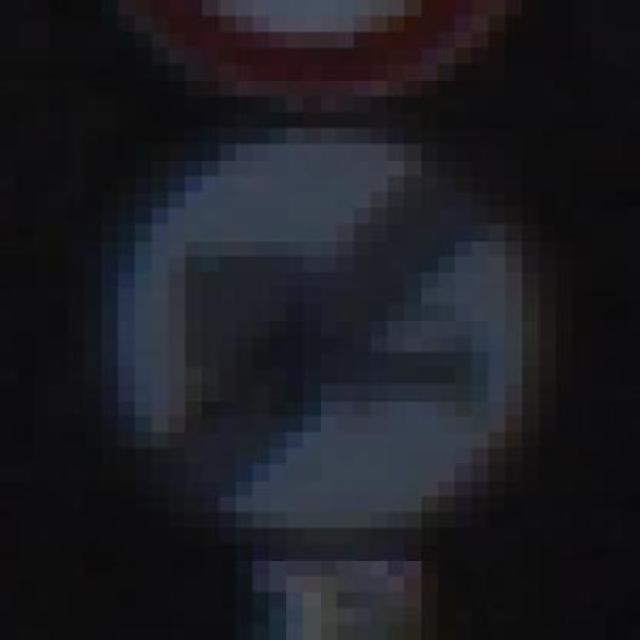Overtaking by trucks is prohibited: (67, 80, 590, 560)
